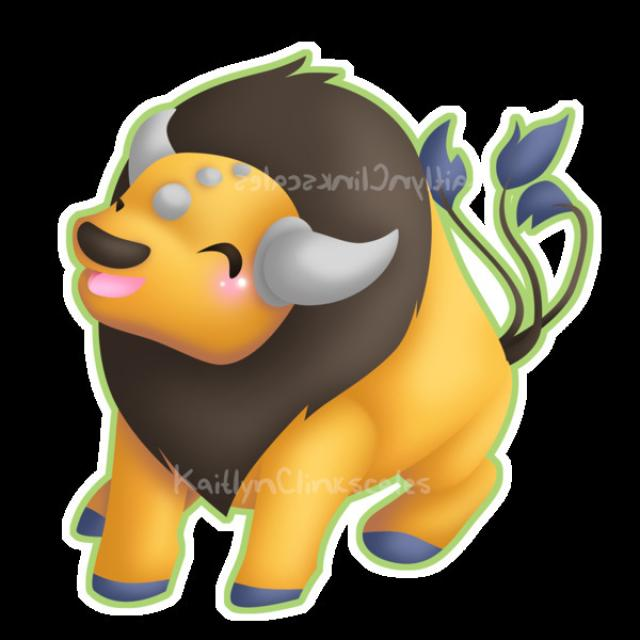Tauros: (62, 59, 526, 577)
